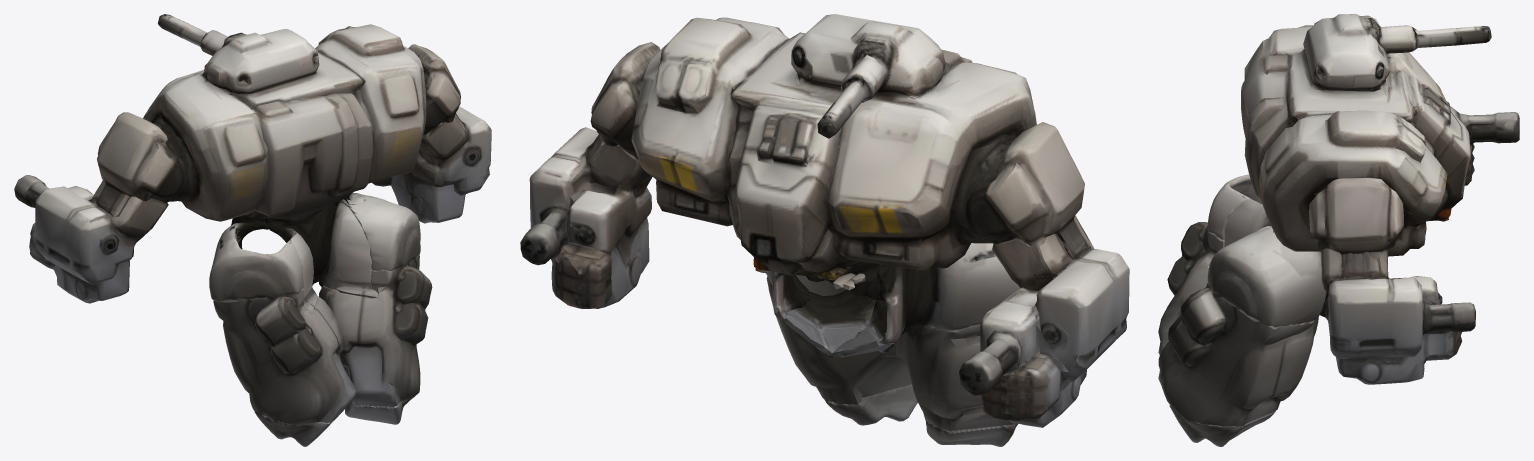
File: hero_h3.glb
3 views of the same model, side by side, from view 1: azimuth 30°, elevation 25°; view 2: azimuth 150°, elevation 25°; view 3: azimuth 270°, elevation 25° (orthographic). The views are drawn at different scales.
Parts seen in each view (by area): view 1: hull, shin_l, weapon_l, shin_r, weapon_r, pelvis, thigh_l, thigh_r, foot_l, foot_r; view 2: hull, weapon_l, weapon_r, shin_r, thigh_l, shin_l, foot_r, pelvis, foot_l, thigh_r; view 3: hull, shin_r, weapon_r, thigh_r, shin_l, weapon_l, thigh_l, pelvis, foot_r.
Boxes of the visible parts, left/top/right/bottom form: hull: left=95, top=14, right=460, bottom=221; shin_l: left=213, top=288, right=356, bottom=425; weapon_l: left=14, top=175, right=168, bottom=303; shin_r: left=312, top=255, right=432, bottom=406; weapon_r: left=372, top=106, right=491, bottom=223; pelvis: left=264, top=202, right=377, bottom=312; thigh_l: left=209, top=215, right=303, bottom=301; thigh_r: left=334, top=193, right=420, bottom=270; foot_l: left=254, top=410, right=342, bottom=446; foot_r: left=345, top=396, right=414, bottom=424; hull: left=588, top=14, right=1090, bottom=283; weapon_l: left=959, top=215, right=1129, bottom=427; weapon_r: left=520, top=127, right=652, bottom=308; shin_r: left=766, top=273, right=911, bottom=404; thigh_l: left=851, top=243, right=1020, bottom=344; shin_l: left=832, top=280, right=1014, bottom=430; foot_r: left=815, top=384, right=917, bottom=425; pelvis: left=755, top=261, right=883, bottom=300; foot_l: left=926, top=421, right=1018, bottom=446; thigh_r: left=766, top=271, right=809, bottom=319; hull: left=1241, top=14, right=1491, bottom=276; shin_r: left=1158, top=282, right=1325, bottom=426; weapon_r: left=1321, top=248, right=1475, bottom=384; thigh_r: left=1207, top=227, right=1328, bottom=327; shin_l: left=1158, top=222, right=1224, bottom=355; weapon_l: left=1450, top=106, right=1519, bottom=185; thigh_l: left=1207, top=174, right=1262, bottom=239; pelvis: left=1208, top=199, right=1448, bottom=265; foot_r: left=1169, top=404, right=1275, bottom=446.
Bounding box in the file's own units: 5.41 × 4.33 × 3.7.
Materials: 1 (1 with a texture image).
